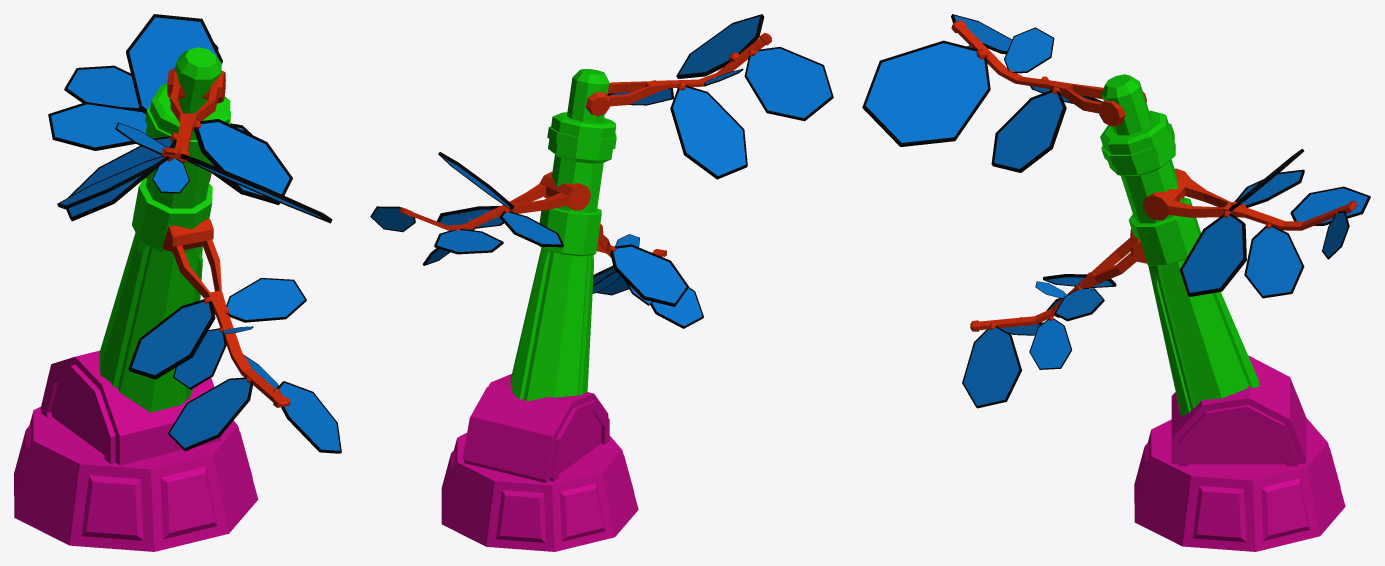
File: Tree3.fbx
The picture shows the model from 3 angles, left to right: view 1: azimuth 30°, elevation 25°; view 2: azimuth 150°, elevation 25°; view 3: azimuth 270°, elevation 25°; orthographic projection. The views are drawn at different scales.
Visible parts, largest first — view 1: socle, PanneauxSolaires, tige, bordures, branches; view 2: socle, PanneauxSolaires, tige, branches, bordures; view 3: PanneauxSolaires, socle, tige, branches, bordures.
Boxes of the visible parts, x1=… form: socle: x1=14, y1=350, x2=258, y2=551; PanneauxSolaires: x1=51, y1=17, x2=340, y2=450; tige: x1=99, y1=47, x2=230, y2=412; bordures: x1=48, y1=14, x2=341, y2=453; branches: x1=145, y1=68, x2=290, y2=407; socle: x1=441, y1=374, x2=638, y2=551; PanneauxSolaires: x1=372, y1=16, x2=831, y2=326; tige: x1=510, y1=69, x2=616, y2=401; branches: x1=399, y1=33, x2=771, y2=257; bordures: x1=370, y1=14, x2=833, y2=328; PanneauxSolaires: x1=865, y1=15, x2=1367, y2=405; socle: x1=1134, y1=355, x2=1345, y2=551; tige: x1=1100, y1=74, x2=1259, y2=415; branches: x1=951, y1=20, x2=1357, y2=331; bordures: x1=862, y1=14, x2=1370, y2=408.
Bounding box in the file's own units: 251 × 330 × 352.
